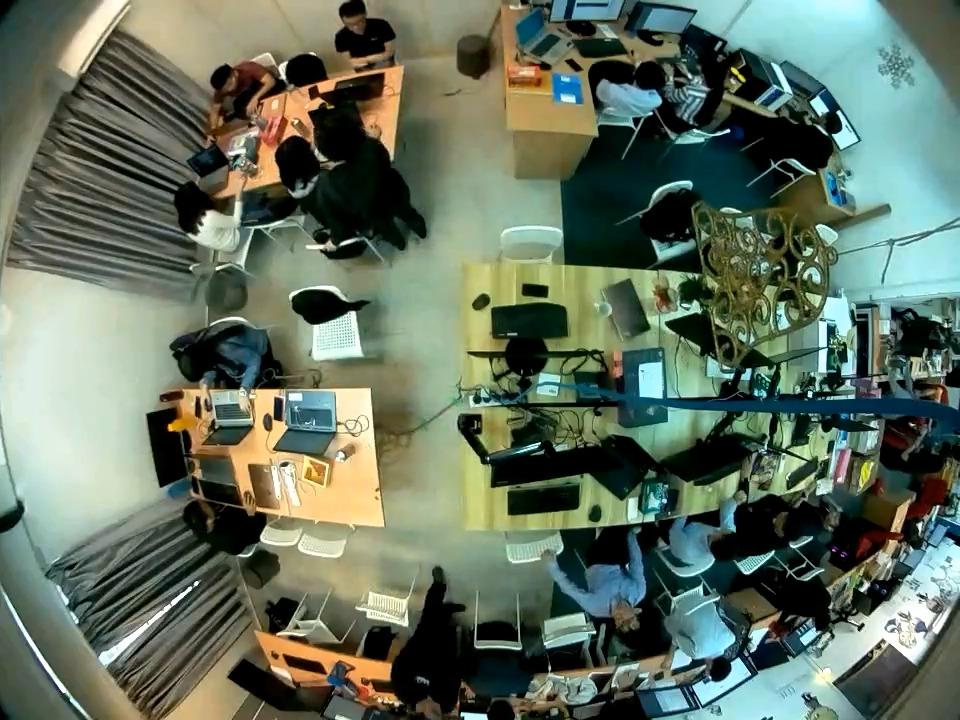name-tag: (414, 674, 434, 688)
